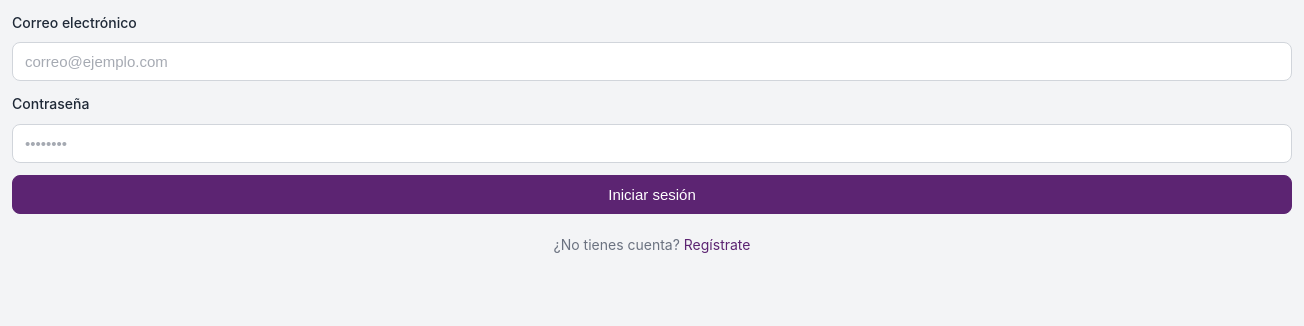
it: LoginForm › shows error message when login fails
Type "test@test.com" into the field labelled "Correo electrónico". click: (652, 62)
box: left=12, top=42, right=1292, bottom=81
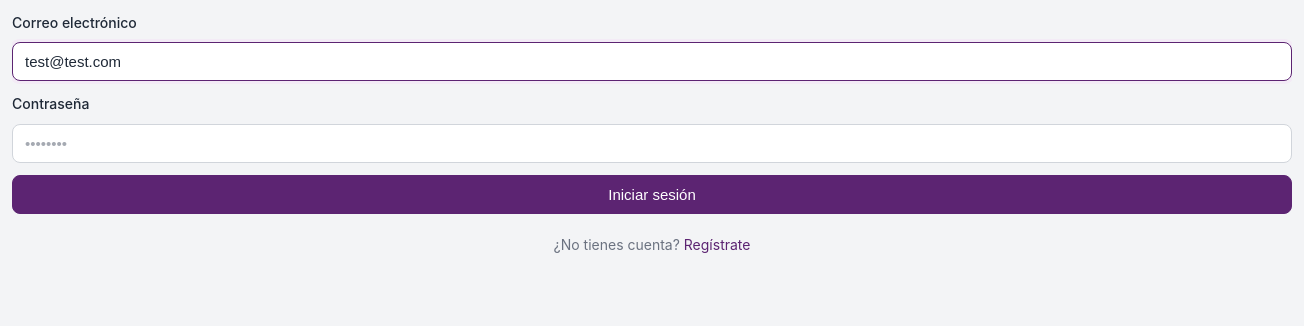
Type "wrongpassword" into the password field labelled "Contraseña". click: (652, 143)
box: left=12, top=124, right=1292, bottom=163
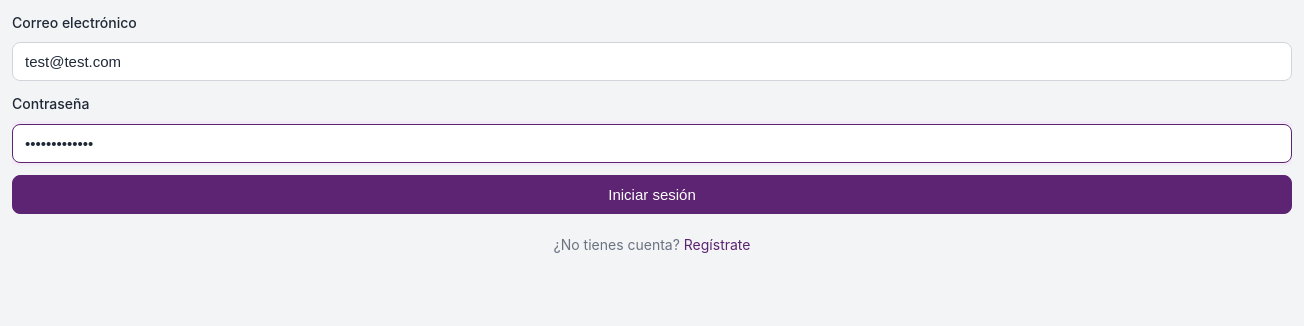
Click the button "Iniciar sesión". click: click(652, 194)
box: left=12, top=175, right=1292, bottom=214
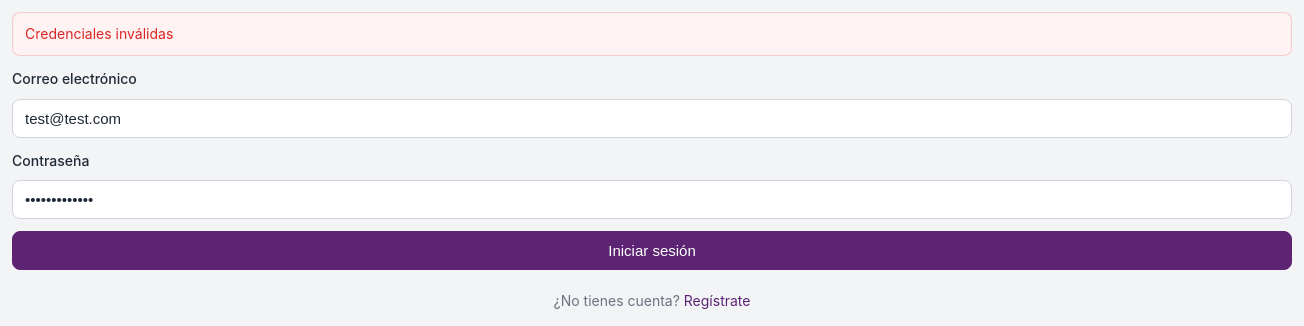
Result: the text "Credenciales inválidas" is shown at left=12, top=12, right=1292, bottom=56
